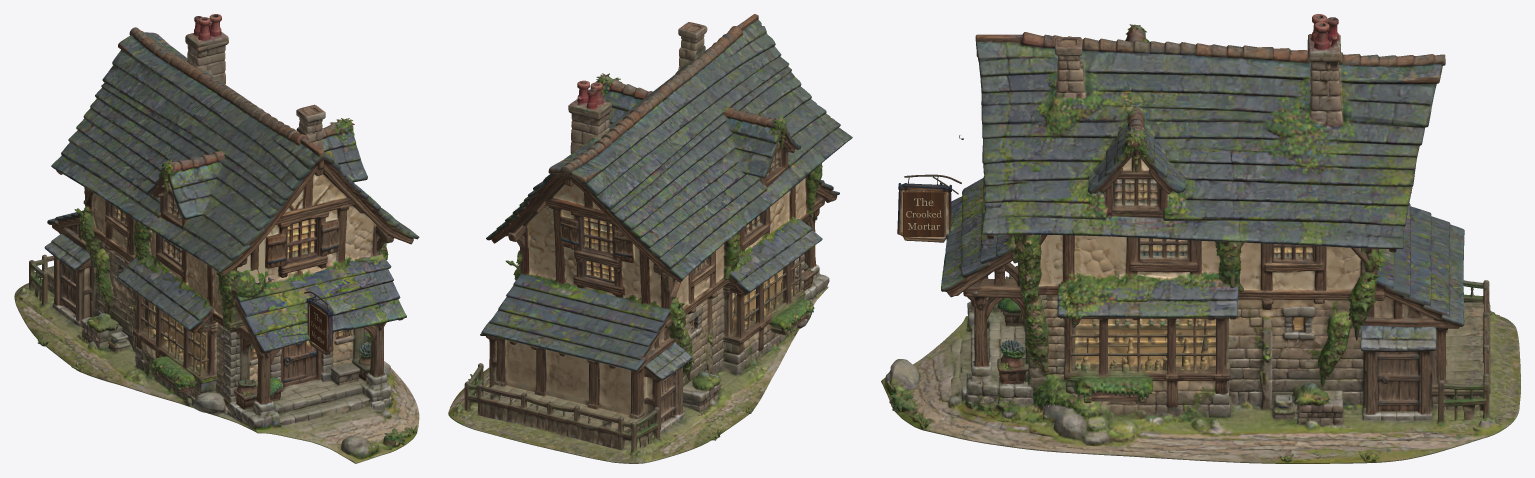
File: CM_CrookedMortar_ExteriorRecovery01.glb
The picture shows the model from 3 angles, left to right: view 1: azimuth 30°, elevation 25°; view 2: azimuth 150°, elevation 25°; view 3: azimuth 270°, elevation 25°; orthographic projection. The views are drawn at different scales.
Visible parts, largest first — view 1: House_Optimized; view 2: House_Optimized; view 3: House_Optimized, Sign_ReplacementInset_Plank02.001.
Boxes of the visible parts, <box> form: House_Optimized: <box>14,14,419,463</box>; House_Optimized: <box>448,14,852,463</box>; House_Optimized: <box>881,14,1520,463</box>; Sign_ReplacementInset_Plank02.001: <box>930,191,944,236</box>.
Size of the model in its own units: 8.32 by 9.74 by 14.72.
Materials: 4 (2 with a texture image).
